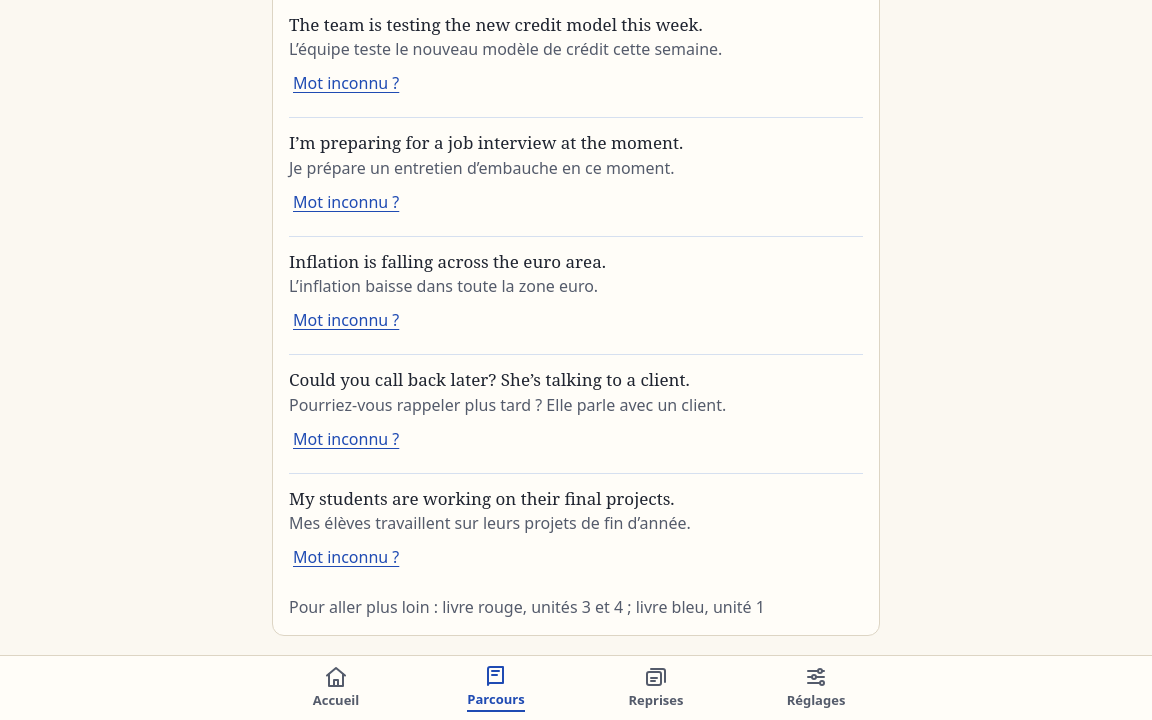
Test: meaning of an unknown word, proposed by the AI (D-095) › offers no AI once the learner has typed a meaning
(page scrolled)
Click the 3rd button "Mot inconnu ?" at (346, 320), box x1=289 y1=298 x2=403 y2=342
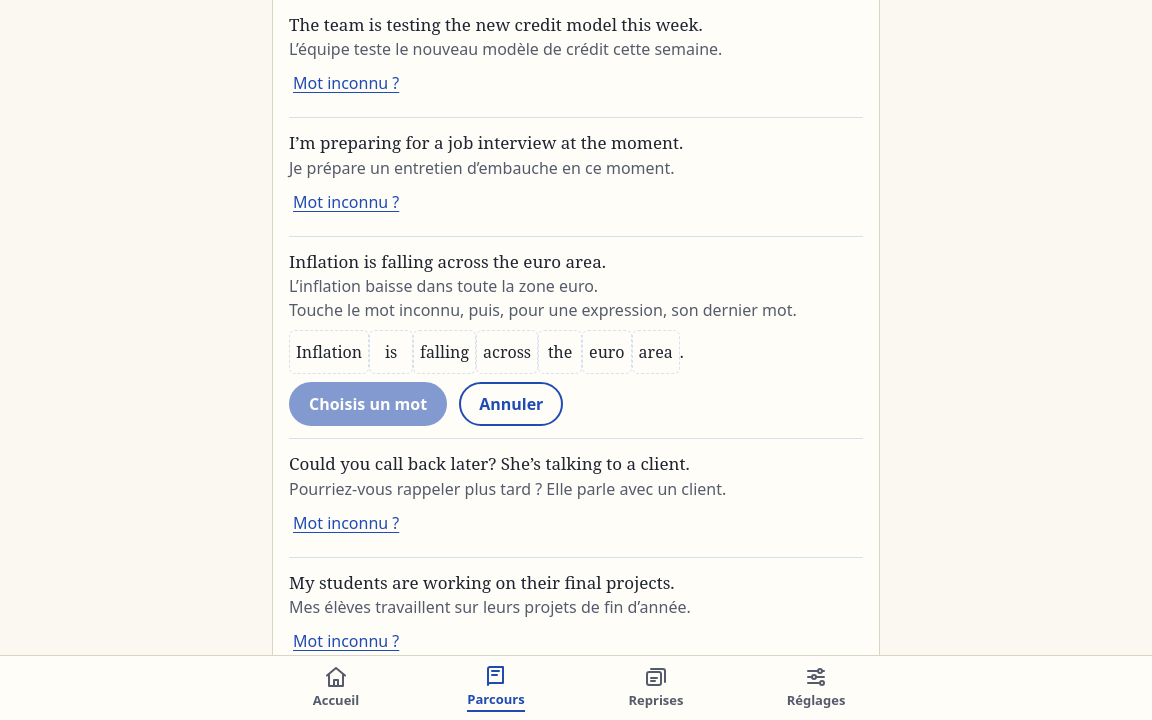
Click the button "across" at (507, 352), box x1=476 y1=330 x2=538 y2=374
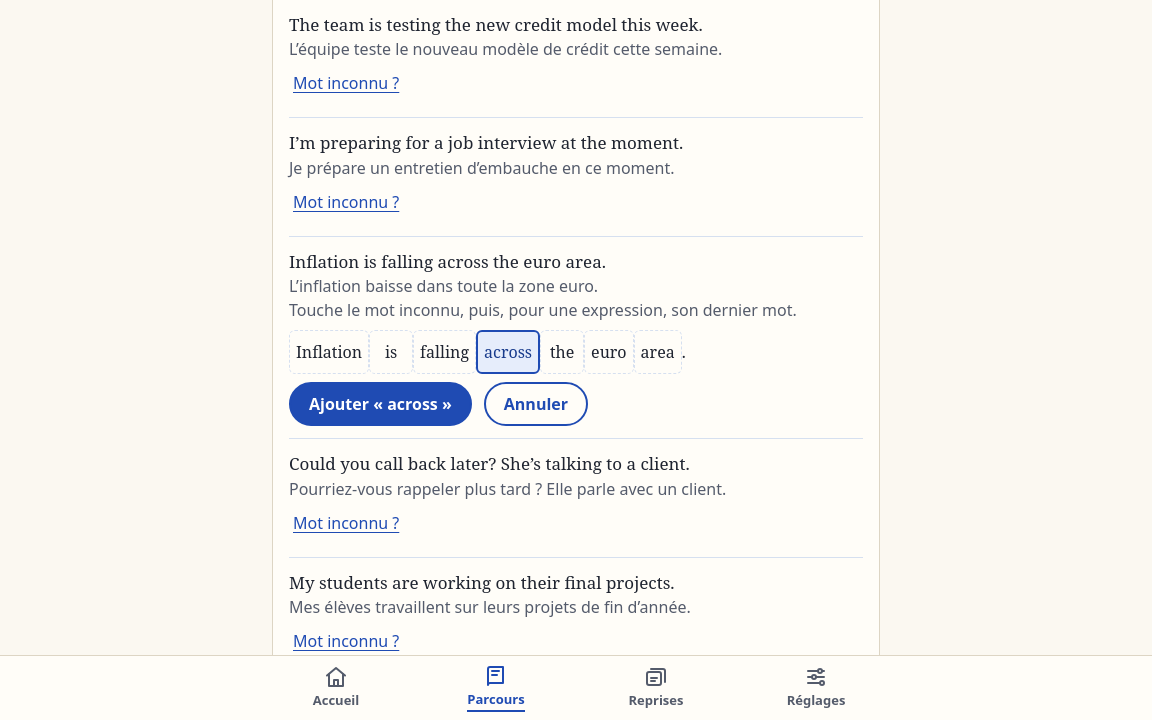
Click the button "Ajouter « across »" at (380, 404), box x1=289 y1=382 x2=472 y2=426
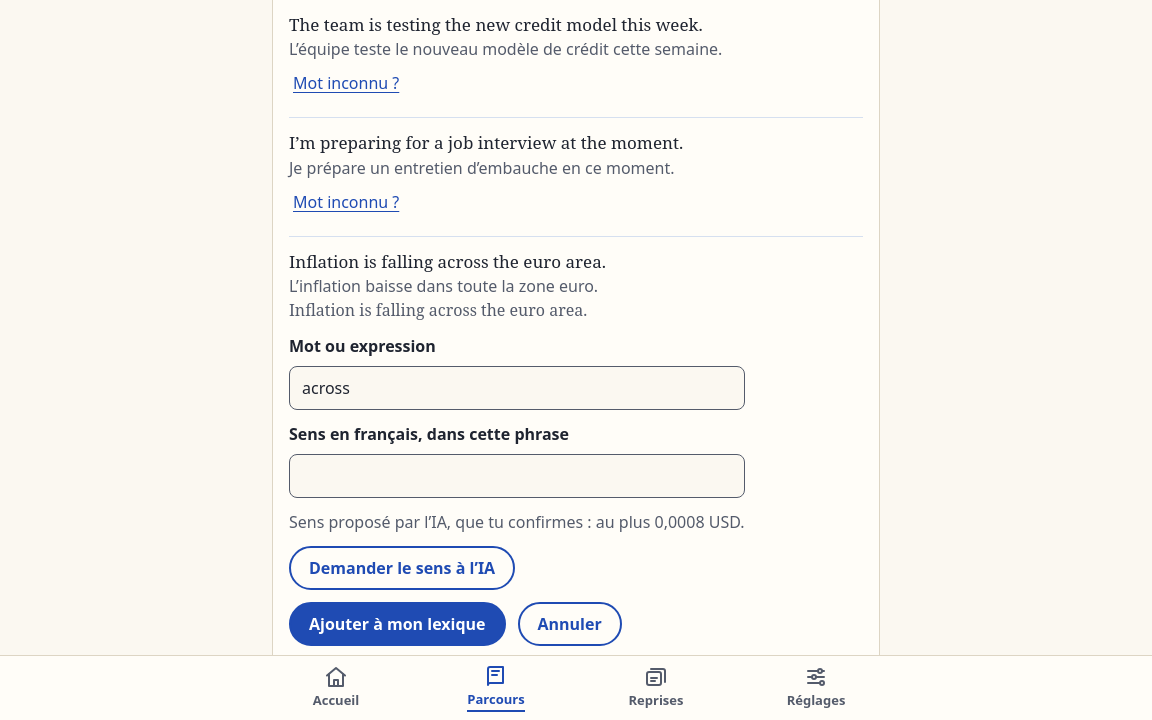
expect the field labelled "Sens en français, dans cette phrase" is enabled: met
Type "à travers" into the field labelled "Sens en français, dans cette phrase" at (517, 476), box x1=289 y1=454 x2=744 y2=498
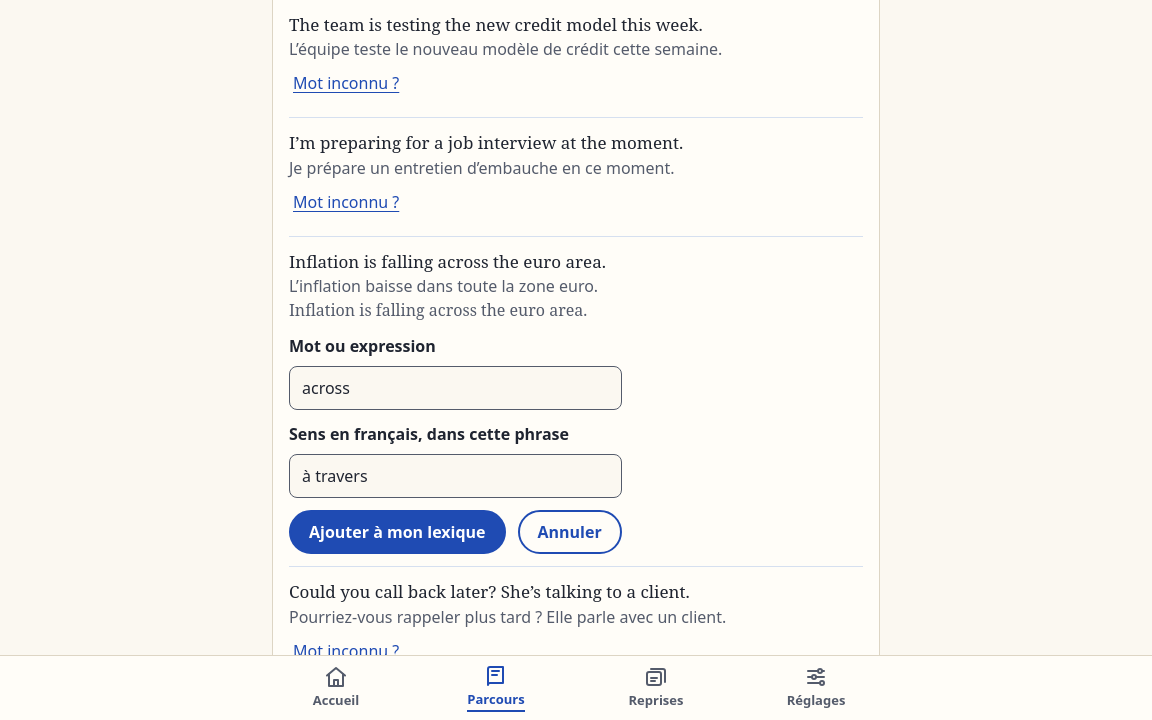
expect the button "Demander le sens à l’IA" is gone: met
